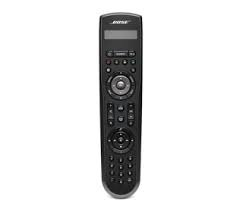remote control: (100, 15, 143, 198)
